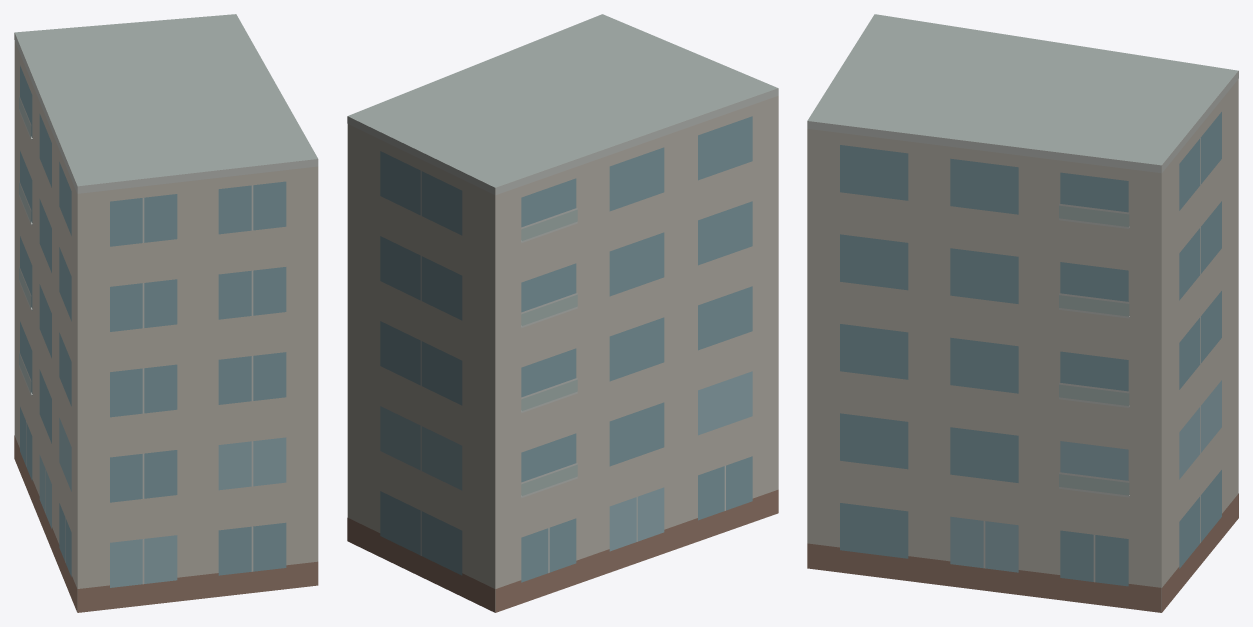
File: survey-upis-33046851.glb
The picture shows the model from 3 angles, left to right: view 1: azimuth 30°, elevation 25°; view 2: azimuth 150°, elevation 25°; view 3: azimuth 270°, elevation 25°; orthographic projection. The views are drawn at different scales.
Parts seen in each view (by area): view 1: survey-upis-33046851.tmp; view 2: survey-upis-33046851.tmp; view 3: survey-upis-33046851.tmp.
Boxes of the visible parts, x1=… form: survey-upis-33046851.tmp: x1=14, y1=14, x2=318, y2=612; survey-upis-33046851.tmp: x1=347, y1=14, x2=778, y2=612; survey-upis-33046851.tmp: x1=807, y1=14, x2=1238, y2=612.
Size of the model in its own units: 10.02 by 13.8 by 12.07.
